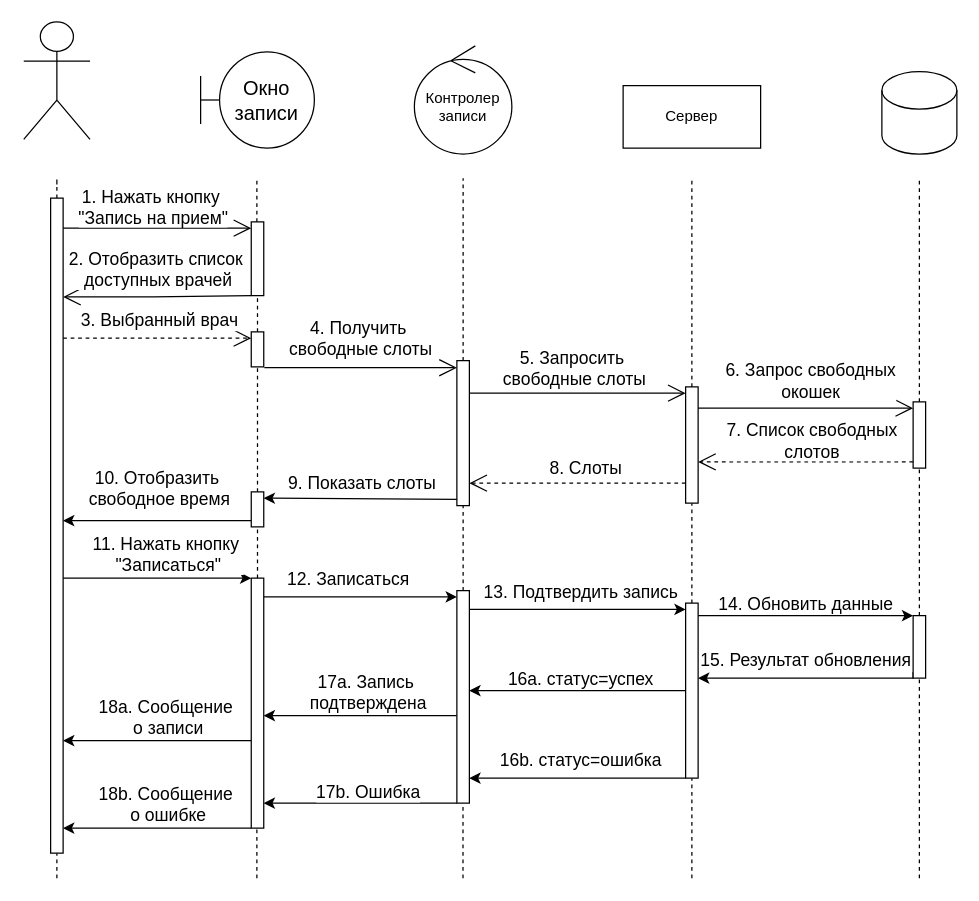
Image size: 979x901. Some labels were removed from this diagram. Each missing label, with the box of its shape:
База данных: (881, 70, 957, 154)
Пациент: (22, 21, 90, 139)
